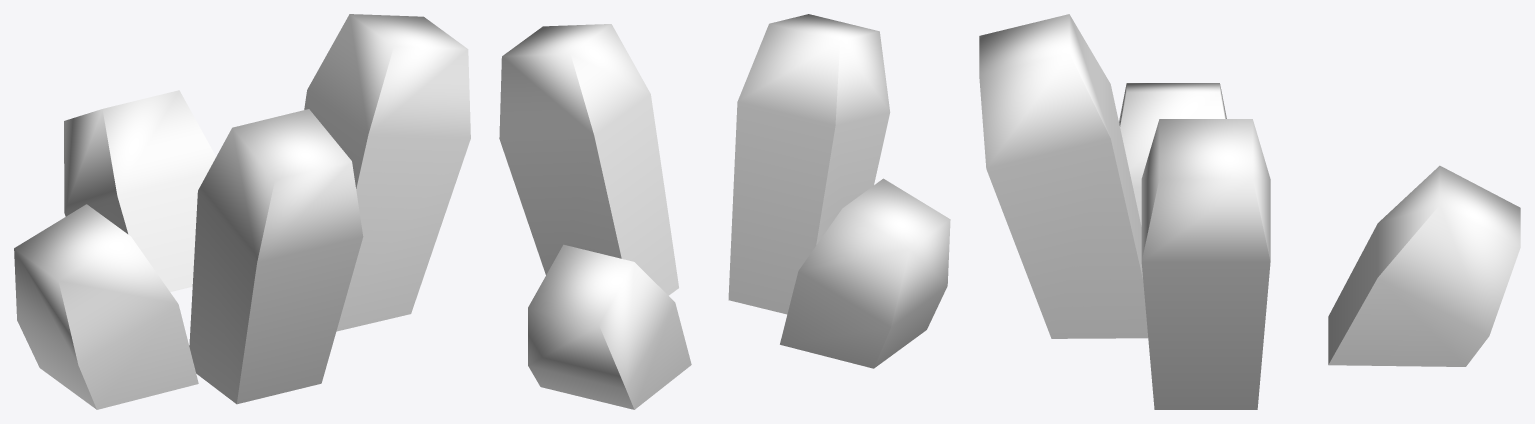
File: grass.glb
3 views of the same model, side by side, from view 1: azimuth 30°, elevation 25°; view 2: azimuth 150°, elevation 25°; view 3: azimuth 270°, elevation 25° (orthographic). The views are drawn at different scales.
Parts seen in each view (by area): view 1: grass; view 2: grass; view 3: grass.
Part boxes in pixels (<box>): grass: <box>14,14,470,409</box>; grass: <box>499,14,950,409</box>; grass: <box>979,14,1520,409</box>.
Size of the model in its own units: 0.5187 by 0.314 by 0.5437.
1 material, 1 textured.
